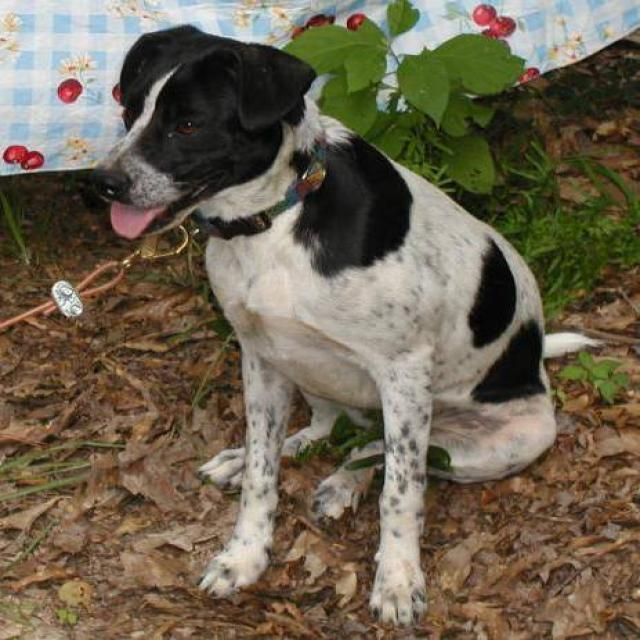dog: (79, 23, 605, 629)
